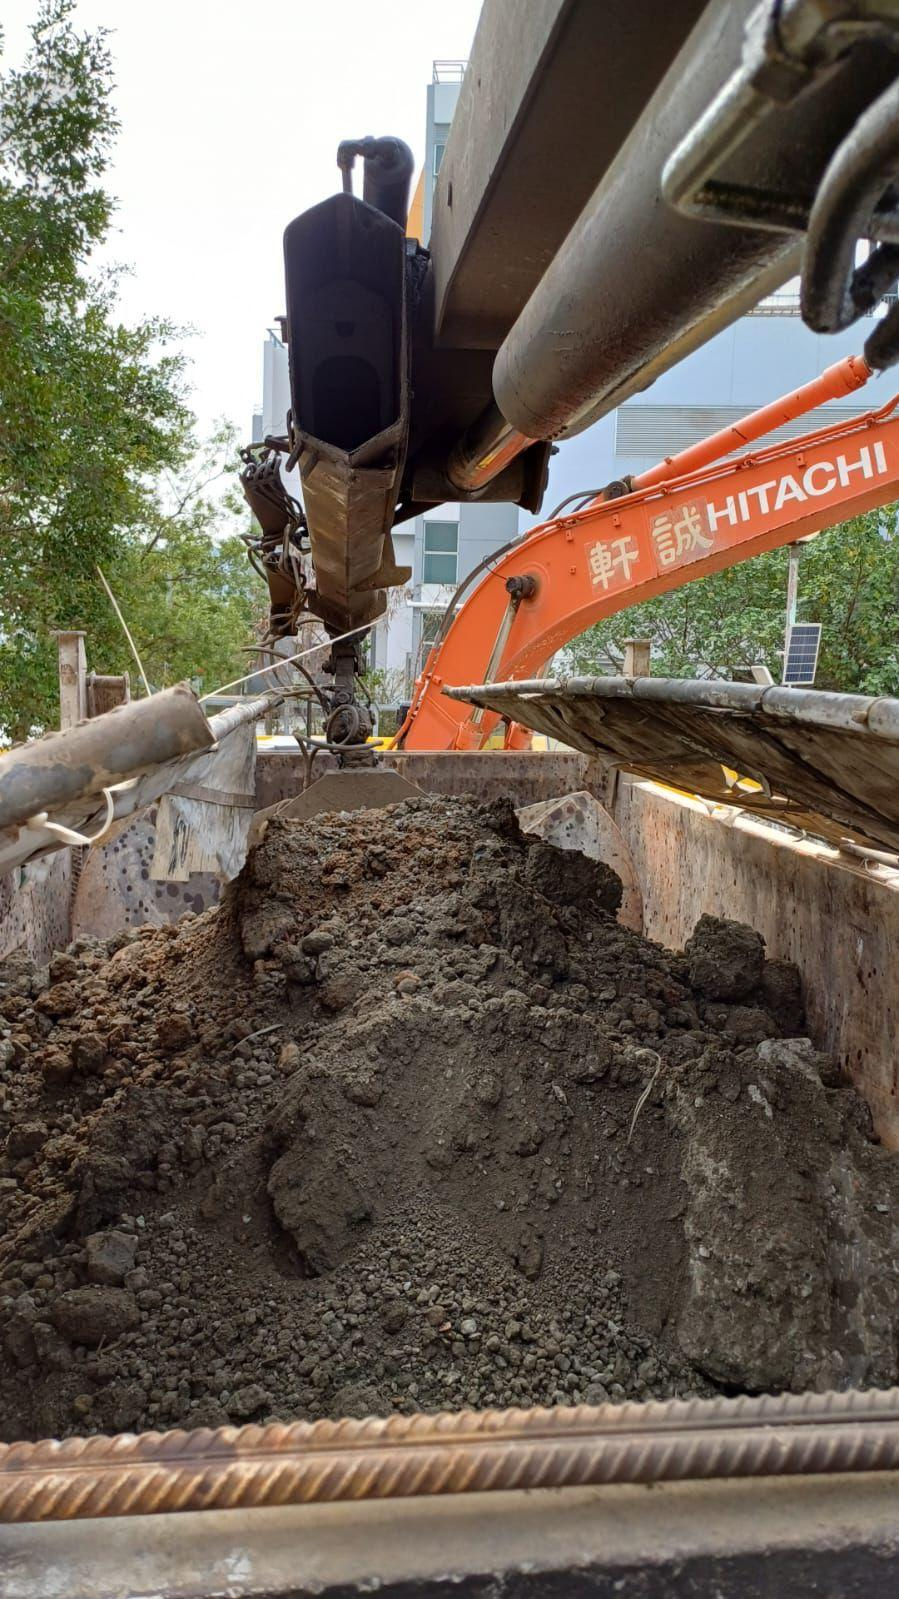wet: (0, 803, 885, 1432)
